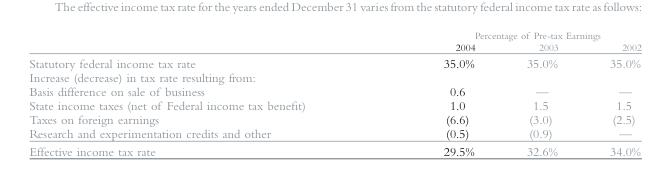table: (28, 28, 640, 157)
table column: (28, 28, 373, 157), (373, 28, 500, 157), (500, 28, 583, 157), (583, 28, 640, 157)
table column header: (28, 28, 640, 54)
table projected row header: (28, 69, 640, 84)
table row: (28, 141, 640, 157), (28, 54, 640, 69), (28, 69, 640, 84), (28, 126, 640, 141), (28, 40, 640, 54), (28, 84, 640, 98), (28, 98, 640, 112), (28, 112, 640, 126), (28, 28, 640, 40)
table spanning cell: (373, 28, 640, 40)
